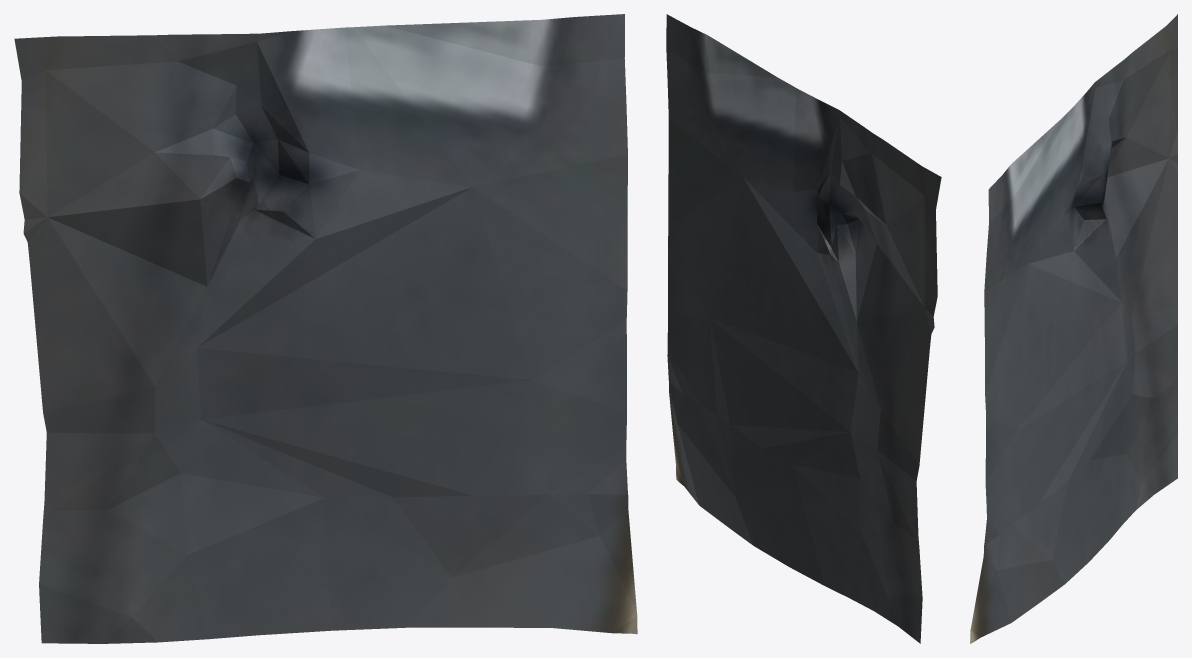
The picture shows the model from 3 angles, left to right: view 1: azimuth 30°, elevation 25°; view 2: azimuth 150°, elevation 25°; view 3: azimuth 270°, elevation 25°; orthographic projection. The views are drawn at different scales.
Bounding box in the file's own units: 0.6931 × 0.8374 × 0.3472.
Materials: 2 (2 with a texture image).
